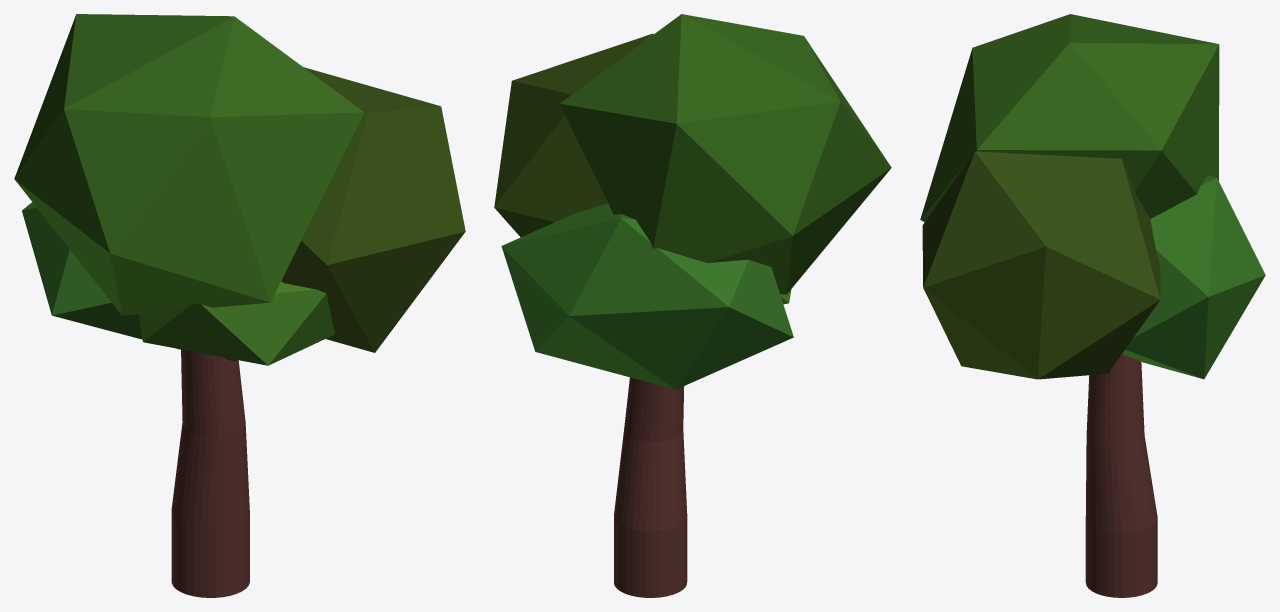
Rendered from Day Tree 2.fbx.
3 renders of one model, left to right at view 1: azimuth 30°, elevation 25°; view 2: azimuth 150°, elevation 25°; view 3: azimuth 270°, elevation 25°, orthographic. The views are drawn at different scales.
Parts seen in each view (by area): view 1: Icosphere.002, Icosphere, Big Tree, Icosphere.003, Icosphere.001; view 2: Icosphere.002, Icosphere.001, Big Tree, Icosphere; view 3: Icosphere, Icosphere.002, Icosphere.001, Big Tree.
Boxes of the visible parts, x1,y1,x2,y2 form: Icosphere.002: (14, 14, 364, 315); Icosphere: (281, 67, 465, 352); Big Tree: (171, 350, 249, 597); Icosphere.003: (138, 281, 334, 365); Icosphere.001: (22, 202, 182, 350); Icosphere.002: (560, 14, 891, 294); Icosphere.001: (501, 203, 793, 389); Big Tree: (614, 377, 687, 597); Icosphere: (494, 33, 653, 237); Icosphere: (922, 151, 1160, 379); Icosphere.002: (920, 14, 1219, 222); Icosphere.001: (1122, 175, 1265, 379); Big Tree: (1085, 354, 1157, 597).
Size of the model in its own units: 1084 by 1651 by 962.
